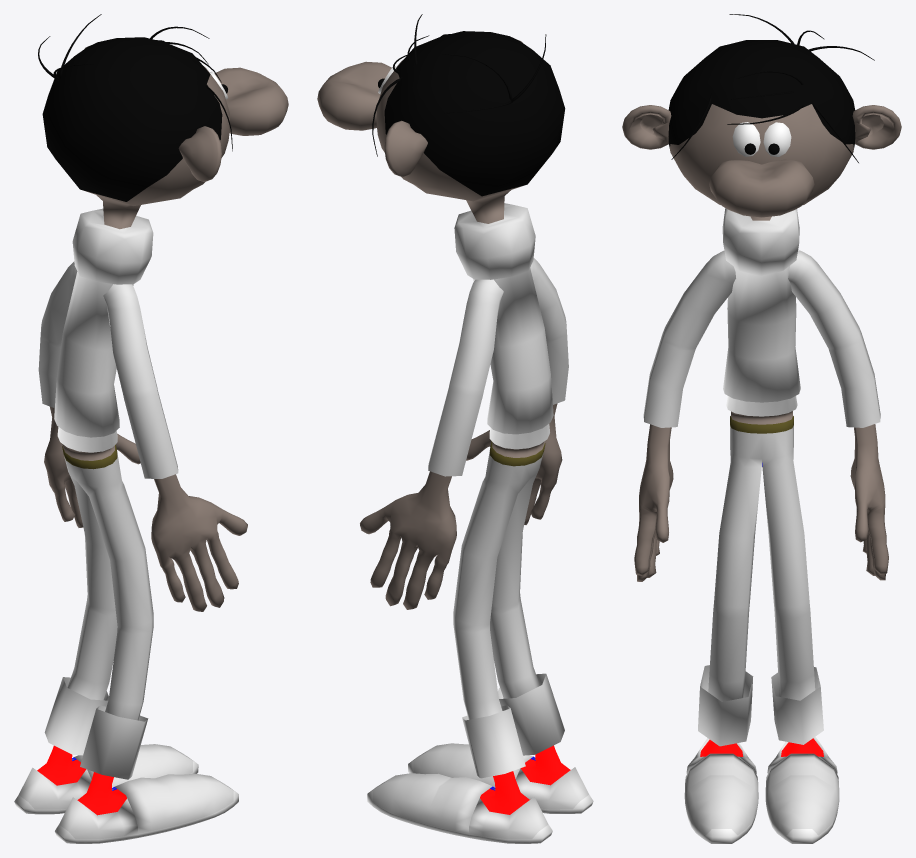
The model's file is spectator_plywood_tall.dae.
3 views of the same model, side by side, from view 1: azimuth 30°, elevation 25°; view 2: azimuth 150°, elevation 25°; view 3: azimuth 270°, elevation 25° (orthographic).
Parts seen in each view (by area): view 1: Spectator; view 2: Spectator; view 3: Spectator.
Boxes of the visible parts, box(x1,y1,x2,y2) form: Spectator: box(14, 14, 288, 843); Spectator: box(317, 14, 593, 843); Spectator: box(622, 14, 901, 843).
Size of the model in its own units: 0.6596 by 0.662 by 2.
